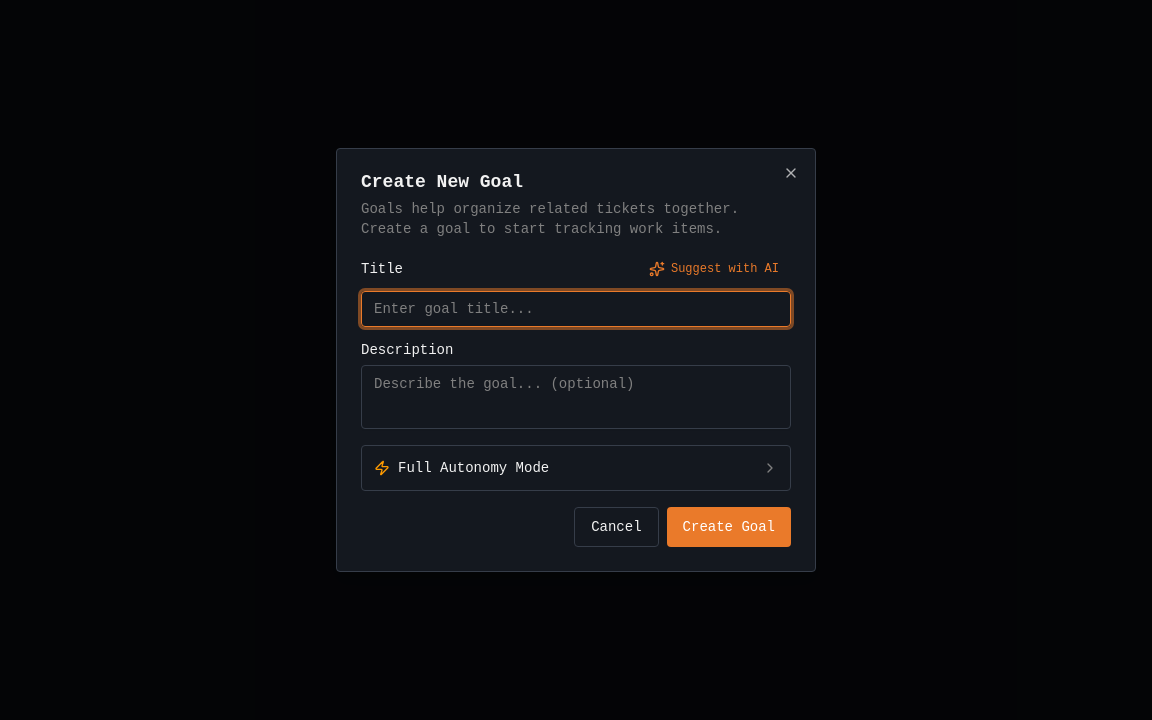
Scenario: CreateGoalDialog › clears title error when user starts typing
# Submit empty to trigger error
Click the button "Create Goal" at (729, 527), box [667, 507, 791, 547]
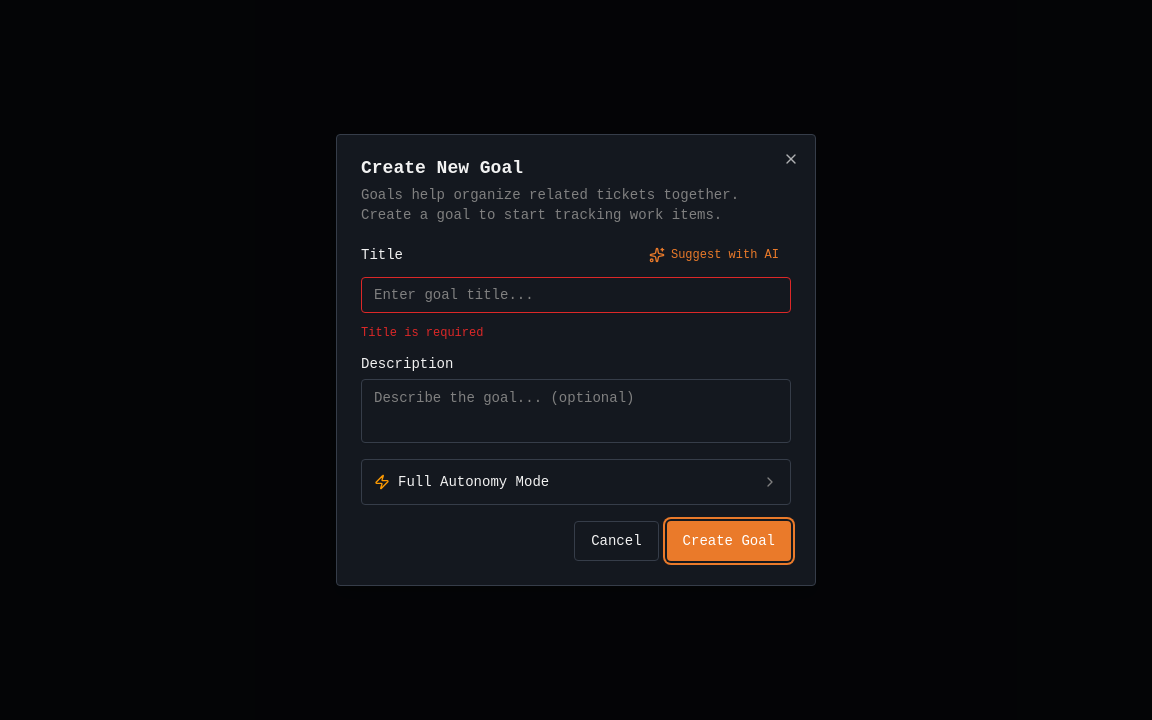
Check: the text "Title is required" is shown, box [361, 326, 483, 340]
# Start typing to clear the error
Type "a" into the field labelled "Title" at (576, 295), box [361, 277, 791, 313]
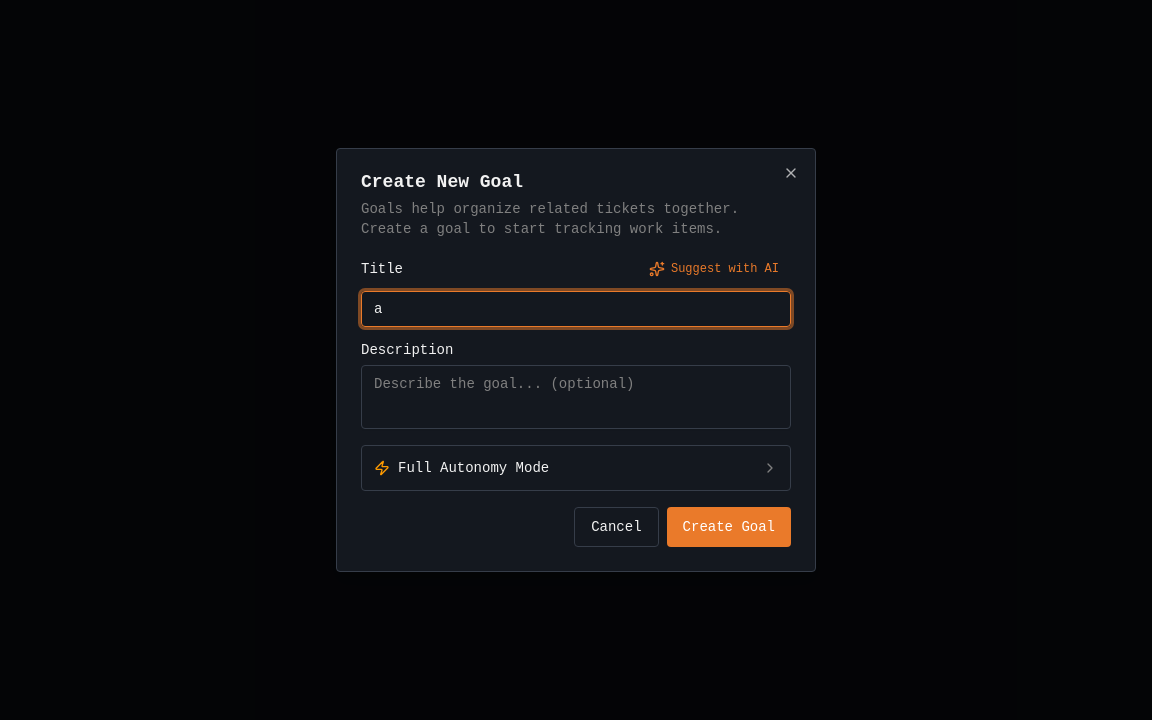
Check: the text "Title is required" is gone
